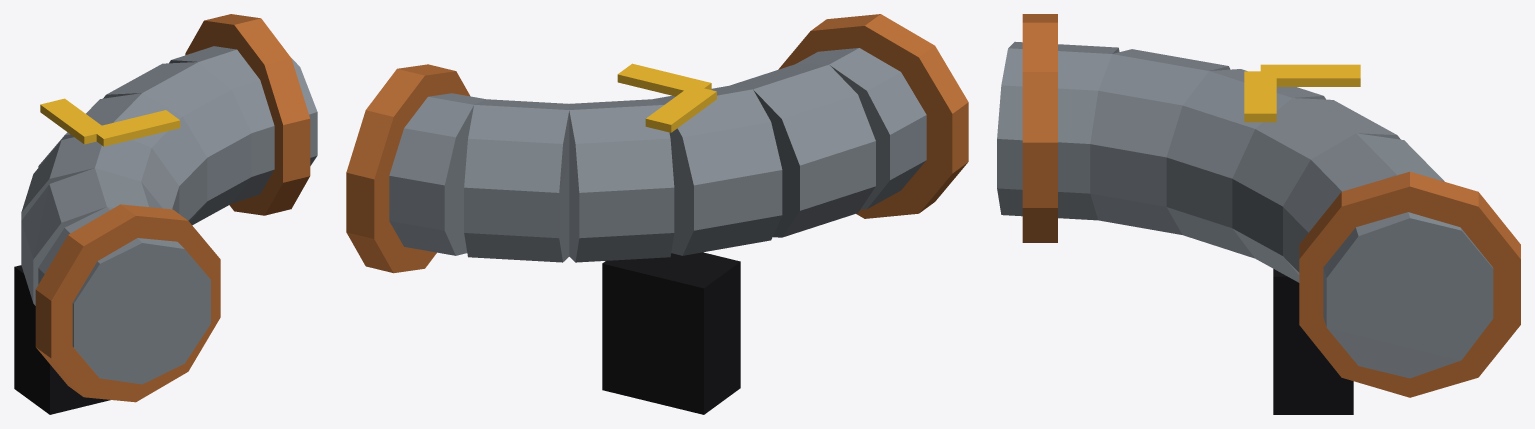
Rendered from pipe_corner_l.obj.
3 renders of one model, left to right at view 1: azimuth 30°, elevation 25°; view 2: azimuth 150°, elevation 25°; view 3: azimuth 270°, elevation 25°, orthographic. The views are drawn at different scales.
Parts seen in each view (by area): view 1: Pipe, Arrows; view 2: Pipe, Arrows; view 3: Pipe, Arrows.
Part boxes in pixels (<box>): Pipe: <box>14,14,317,414</box>; Arrows: <box>40,98,180,146</box>; Pipe: <box>346,14,968,414</box>; Arrows: <box>617,63,716,132</box>; Pipe: <box>997,14,1520,414</box>; Arrows: <box>1244,64,1360,122</box>.
Size of the model in its own units: 0.6516 by 0.445 by 0.6516.
